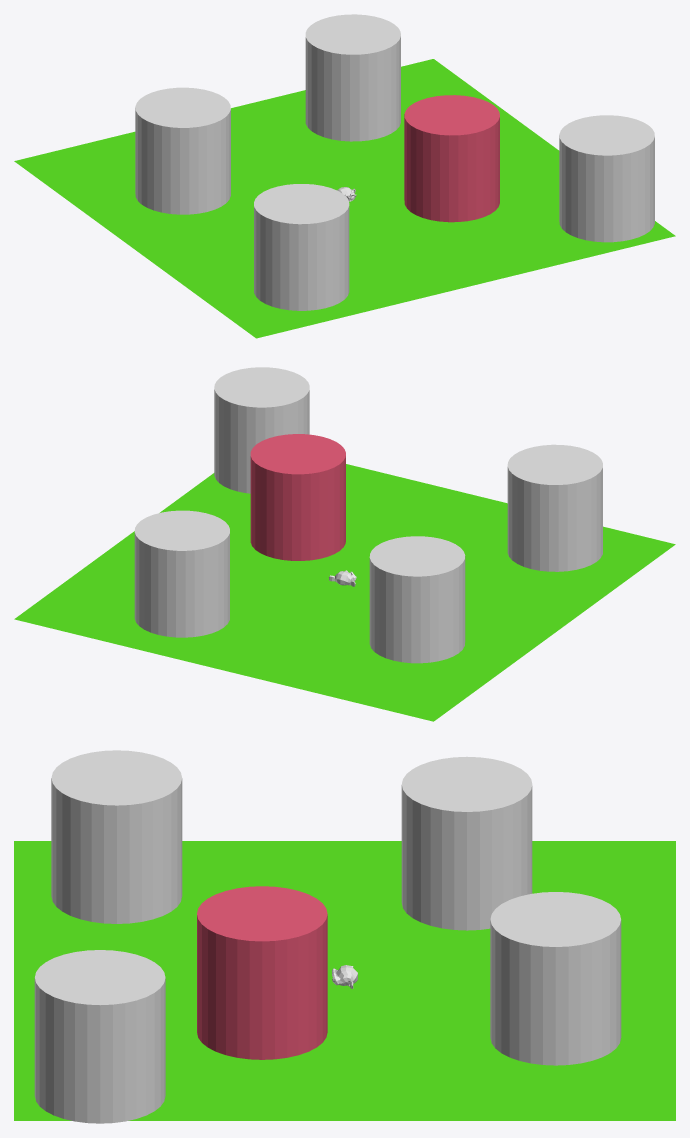
Rendered from level.gltf.
3 renders of one model, top to bottom at view 1: azimuth 30°, elevation 25°; view 2: azimuth 150°, elevation 25°; view 3: azimuth 270°, elevation 25°, orthographic. The views are drawn at different scales.
Visible parts, largest first — view 1: Plane, Cylinder.001, Cylinder.004, Cylinder, Cylinder.002, Cylinder.003; view 2: Plane, Cylinder, Cylinder.001, Cylinder.003, Cylinder.002, Cylinder.004; view 3: Plane, Cylinder.003, Cylinder.004, Cylinder.001, Cylinder.002, Cylinder.
Boxes of the visible parts, box(x1,y1,x2,y2) form: Plane: box(14, 59, 675, 338); Cylinder.001: box(305, 14, 400, 141); Cylinder.004: box(559, 115, 654, 242); Cylinder: box(135, 87, 230, 214); Cylinder.002: box(404, 95, 499, 222); Cylinder.003: box(254, 184, 349, 310); Plane: box(14, 464, 675, 721); Cylinder: box(369, 536, 465, 663); Cylinder.001: box(134, 510, 229, 637); Cylinder.003: box(507, 444, 602, 571); Cylinder.002: box(250, 434, 345, 560); Cylinder.004: box(214, 367, 309, 493); Plane: box(14, 841, 675, 1120); Cylinder.003: box(51, 750, 182, 923); Cylinder.004: box(34, 950, 165, 1123); Cylinder.001: box(490, 892, 621, 1065); Cylinder.002: box(197, 886, 327, 1059); Cylinder: box(401, 756, 532, 930).
Size of the model in its own units: 10.23 by 2.23 by 10.13.
